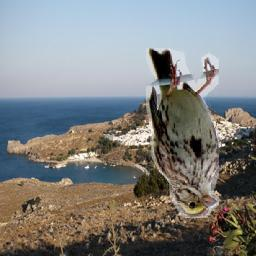Sparrow: (147, 48, 220, 218)
